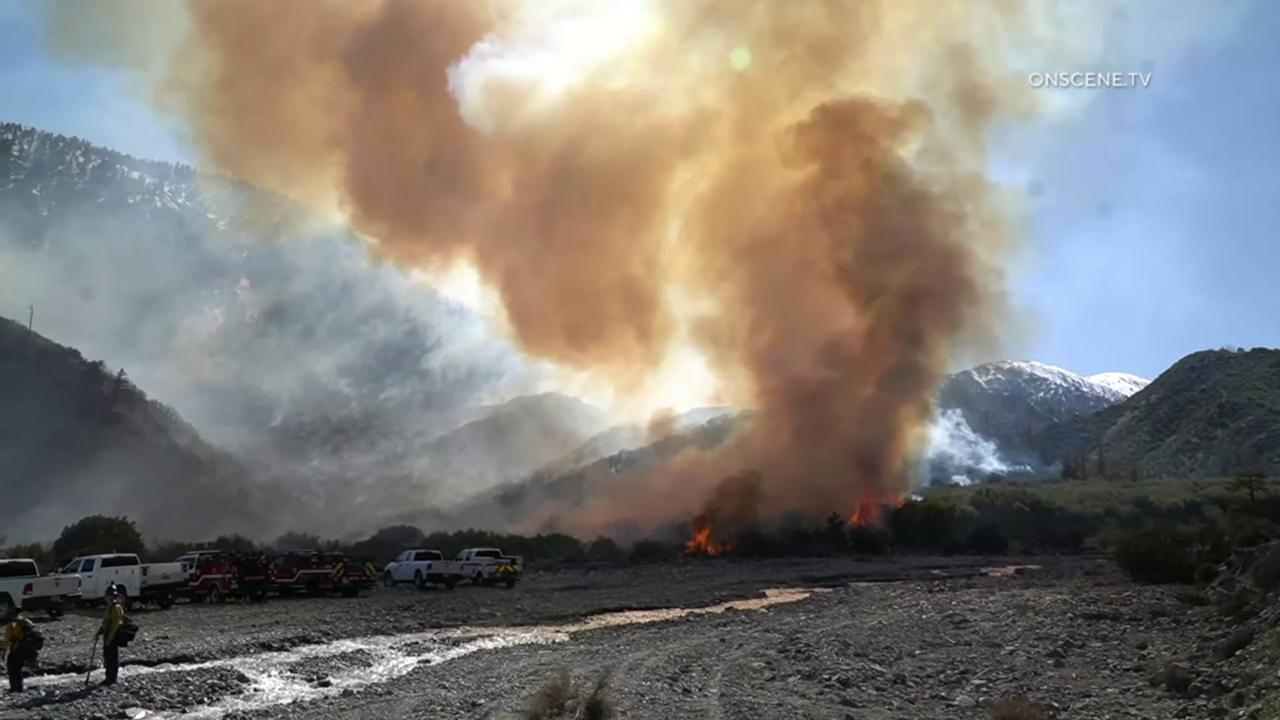fire: (845, 489, 880, 528), (684, 527, 716, 555)
smoke: (0, 0, 1112, 575)
